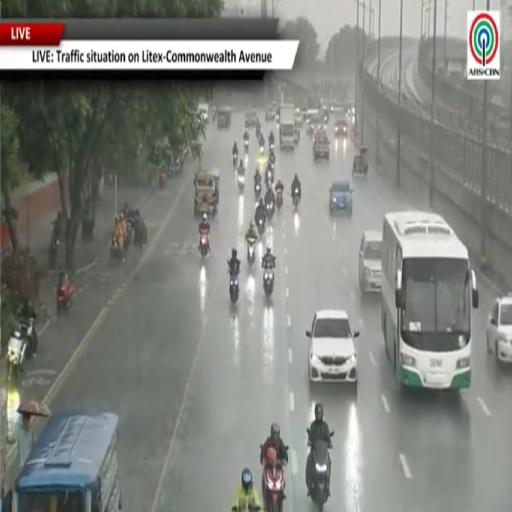bus: (382, 212, 478, 390), (12, 410, 121, 511)
car: (306, 310, 359, 385), (487, 294, 511, 362), (359, 231, 382, 293), (330, 180, 353, 216), (313, 130, 329, 161), (198, 103, 209, 124), (335, 119, 347, 137), (245, 111, 258, 127), (265, 105, 275, 121)
jeepney: (194, 169, 220, 216), (216, 107, 232, 130)
motorcycle: (307, 440, 330, 511), (262, 460, 285, 511), (7, 329, 28, 381), (57, 280, 74, 313), (49, 235, 59, 269), (124, 218, 134, 251), (110, 237, 123, 262), (230, 272, 239, 305), (264, 269, 274, 297), (231, 504, 261, 511), (200, 233, 208, 258), (248, 240, 255, 266), (266, 201, 275, 220), (265, 168, 274, 186), (257, 217, 265, 236), (276, 189, 283, 210), (292, 189, 299, 209), (159, 171, 166, 188), (238, 174, 244, 191), (255, 183, 261, 200), (233, 154, 238, 168), (256, 125, 261, 139), (259, 144, 264, 155), (270, 142, 274, 152), (245, 140, 248, 153)
tricycle: (352, 148, 368, 177)
truck: (279, 104, 294, 149)
